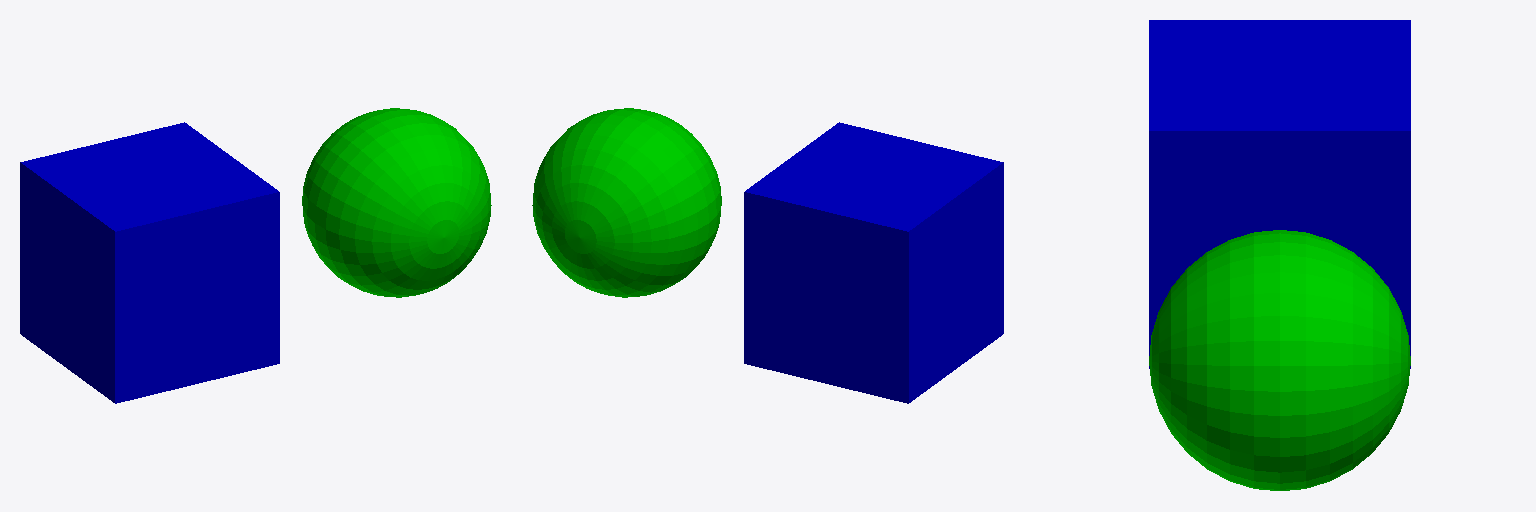
URDF robot description (A_vs_B):
<?xml version="1.0"?>
<robot name="A_vs_B">
  <material name="blue">
    <color rgba="0 0 0.8 .5"/>
  </material>
  <material name="green">
    <color rgba="0 0.8 0 .5"/>
  </material>
  <link name="A">
    <visual>
      <geometry>
        <box size="2 2 2"/>
      </geometry>
      <origin rpy="0.0 0 0" xyz="-1.5 0 0"/>
      <material name="blue"/>
    </visual>
    <collision>
      <geometry>
        <box size="2 2 2"/>
      </geometry>
      <origin rpy="0.0 0 0" xyz="-1.5 0 0"/>
      <material name="blue"/>
    </collision>
  </link>
  <link name="B">
    <visual>
      <geometry>
        <mesh filename="package://exotica_examples/test/resources/uvsphere.obj"/>
      </geometry>
      <origin rpy="0 0 0" xyz="1.5 0 0"/>
      <material name="green"/>
    </visual>
    <collision>
      <geometry>
        <mesh filename="package://exotica_examples/test/resources/uvsphere.obj"/>
      </geometry>
      <origin rpy="0 0 0" xyz="1.5 0 0"/>
      <material name="green"/>
    </collision>
  </link>
  <joint name="joint1" type="revolute">
    <axis xyz="0 0 1"/>
    <limit effort="1" lower="-1" upper="1" velocity="1"/>
    <origin rpy="0 0 0" xyz="0 0 0"/>
    <parent link="A"/>
    <child link="B"/>
  </joint>
</robot>

--- What the picture shows (computed from the rendered views, not written in the file) ---
Views: 3 orthographic renders of the robot side by side, from view 1: azimuth 30°, elevation 25°; view 2: azimuth 150°, elevation 25°; view 3: azimuth 270°, elevation 25°.
Model A_vs_B with 2 links and 1 joints (1 revolute), rooted at A, posed all joints at 0.
Visible links, largest first — view 1: A, B; view 2: A, B; view 3: A, B.
Link boxes in pixels (x1,y1,x2,y2): A: [20, 122, 279, 403]; B: [302, 108, 491, 297]; A: [744, 122, 1003, 403]; B: [532, 108, 721, 297]; A: [1149, 20, 1410, 368]; B: [1149, 230, 1410, 490].
Bounding box of the posed robot: 5 × 2 × 2 m (x, y, z).
Meshes: 1 distinct files referenced, 1 mesh visuals loaded (1 OBJ).